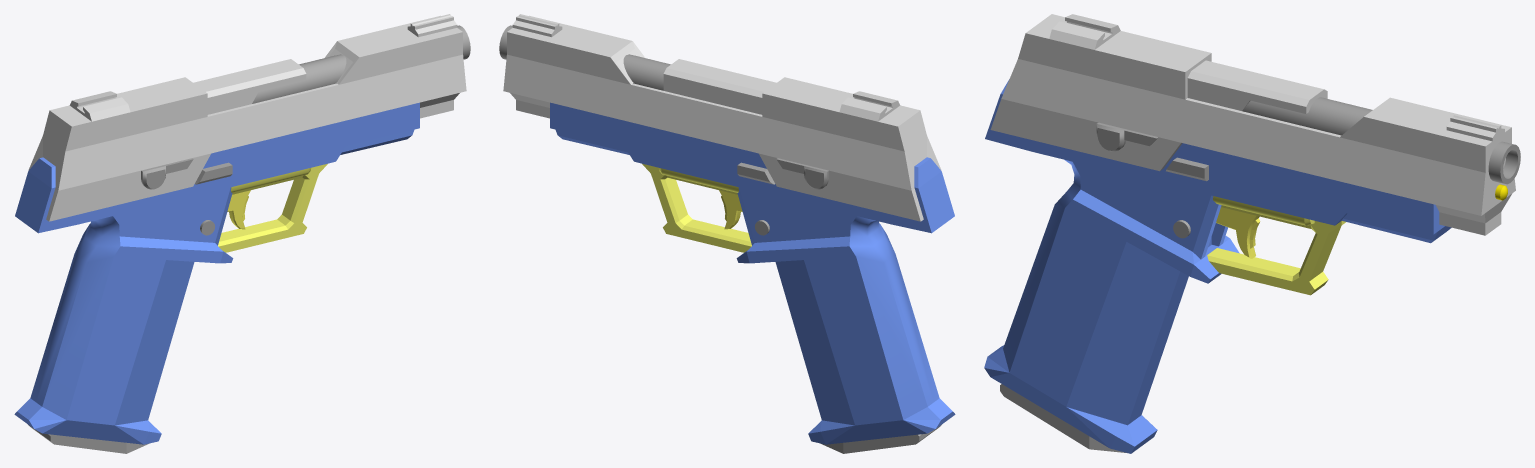
The model's file is Website Pistol.fbx.
The picture shows the model from 3 angles, left to right: view 1: azimuth 30°, elevation 25°; view 2: azimuth 150°, elevation 25°; view 3: azimuth 330°, elevation 25°; orthographic projection. The views are drawn at different scales.
Visible parts, largest first — view 1: Barrel1; view 2: Barrel1; view 3: Barrel1.
Boxes of the visible parts, x1,y1,x2,y2 form: Barrel1: (14,14,470,453); Barrel1: (499,14,955,453); Barrel1: (984,14,1520,453).
Bounding box in the file's own units: 11.35 × 8.62 × 1.57.
